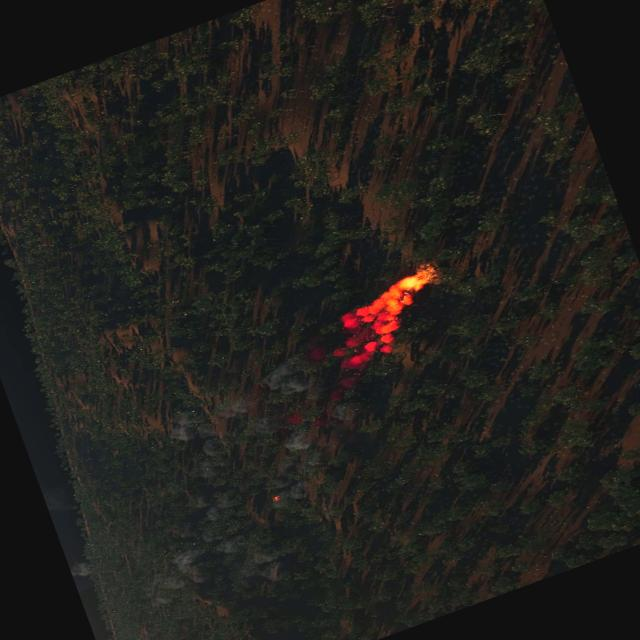fire: (395, 269, 429, 294), (270, 492, 282, 502)
smoke: (122, 488, 269, 609), (334, 278, 428, 368), (300, 371, 373, 432), (260, 354, 311, 400), (308, 336, 357, 381), (205, 390, 252, 424), (41, 480, 74, 515), (273, 477, 309, 503), (166, 413, 196, 442), (190, 456, 218, 482), (283, 430, 313, 454), (252, 412, 282, 436), (68, 556, 91, 580), (255, 547, 278, 566), (68, 368, 92, 386), (284, 409, 304, 425)
